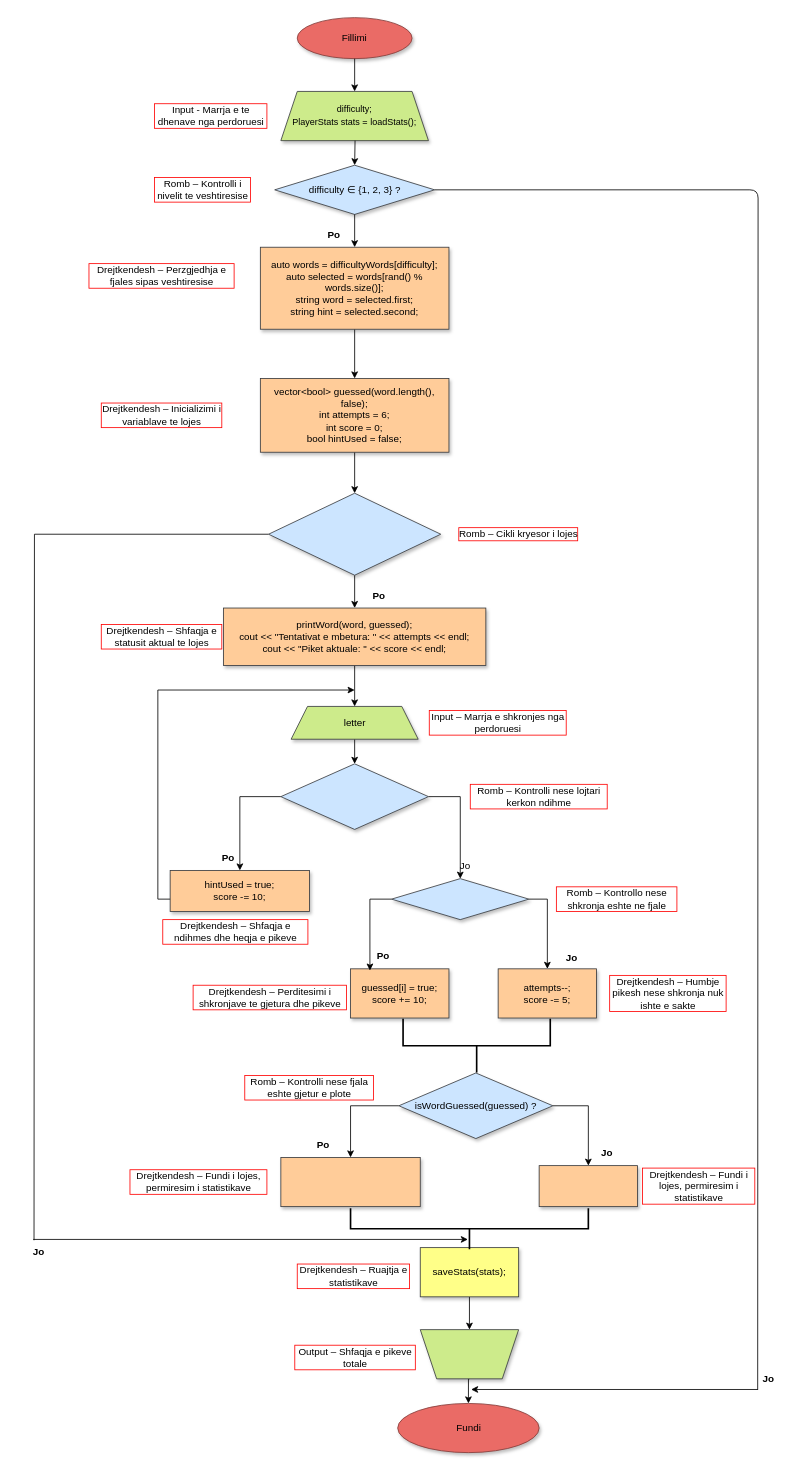
Image size: 807x1473. Some labels were removed from this diagram. Here are the shapes that lost their labels. From the top down, the centre of each, then its label:
At point (355, 535): "attempts > 0 && ! isWordGuessed (guessed) ?".
At point (355, 797): "letter == '?' && !hintUsed ?".
At point (460, 900): "letter in word ?".
At point (351, 1182): "stats.wins++; stats.score += score;".
At point (588, 1187): "stats.losses++;".
At point (470, 1355): "stats.score".
